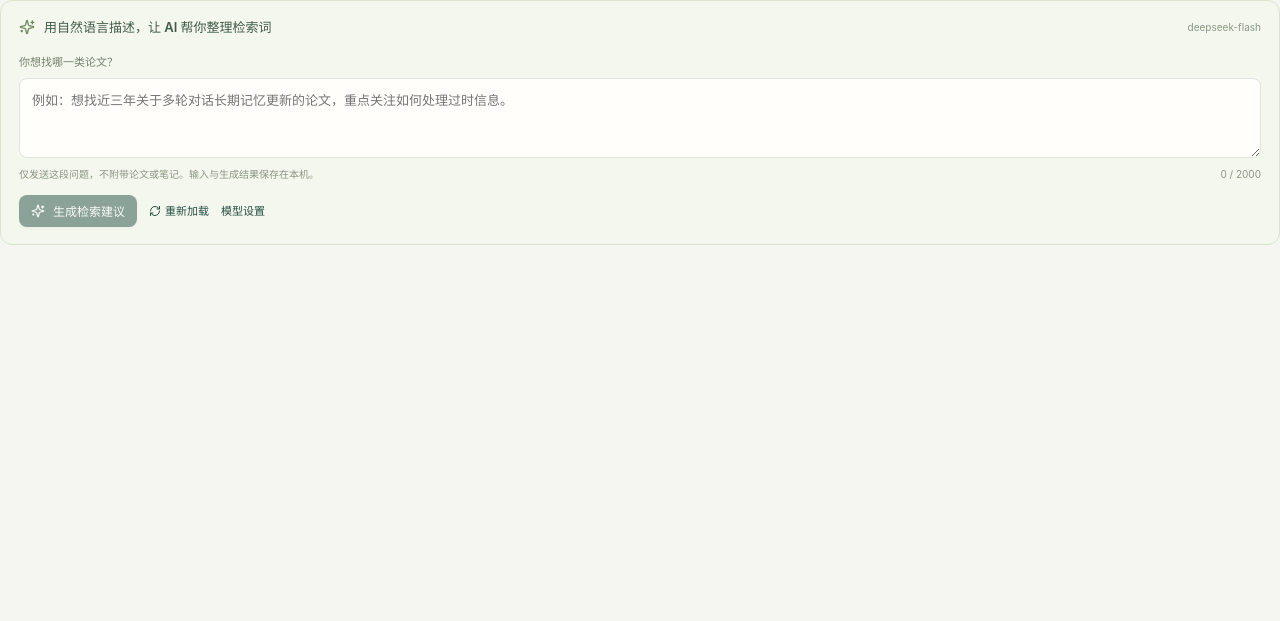
Test: 响应不确定时安全重试同一提交，不把后来编辑的问题重复发送
The width and height of the screenshot is (1280, 621).
Expected: the text "deepseek-flash" is shown, [1188,19,1261,35]
Type "原研究问题" into the text box named "ACL Anthology 研究问题" at (640, 118), box [19,78,1261,158]
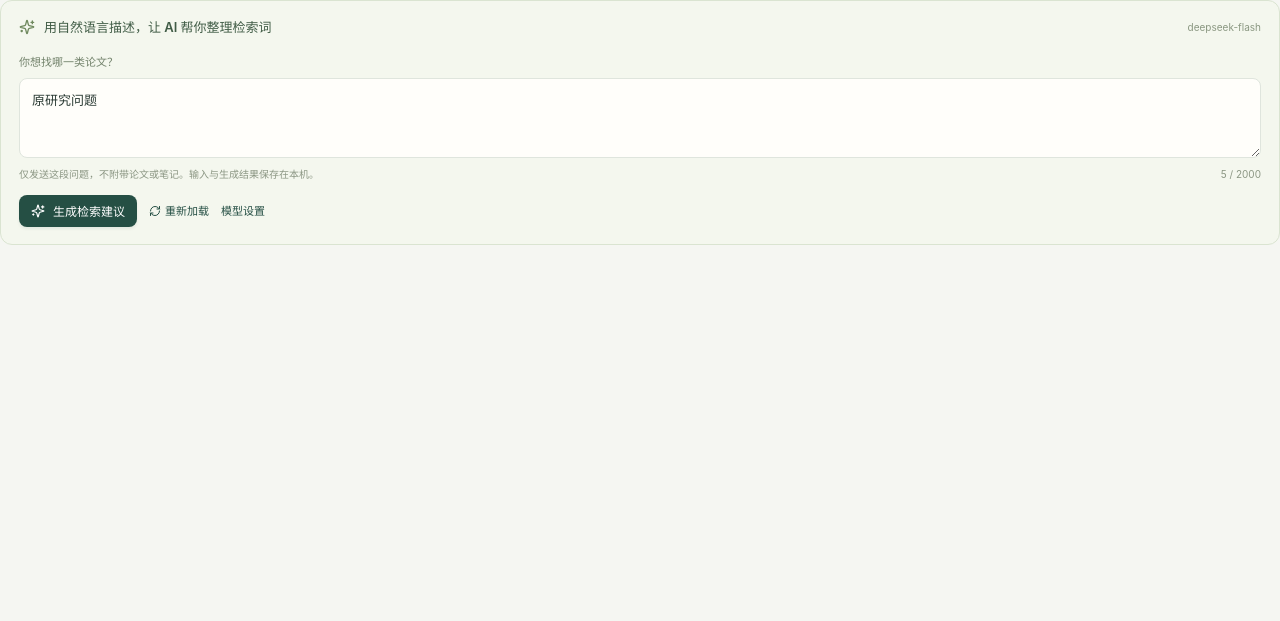
Click the button "生成检索建议" at (78, 211), box [19,195,137,227]
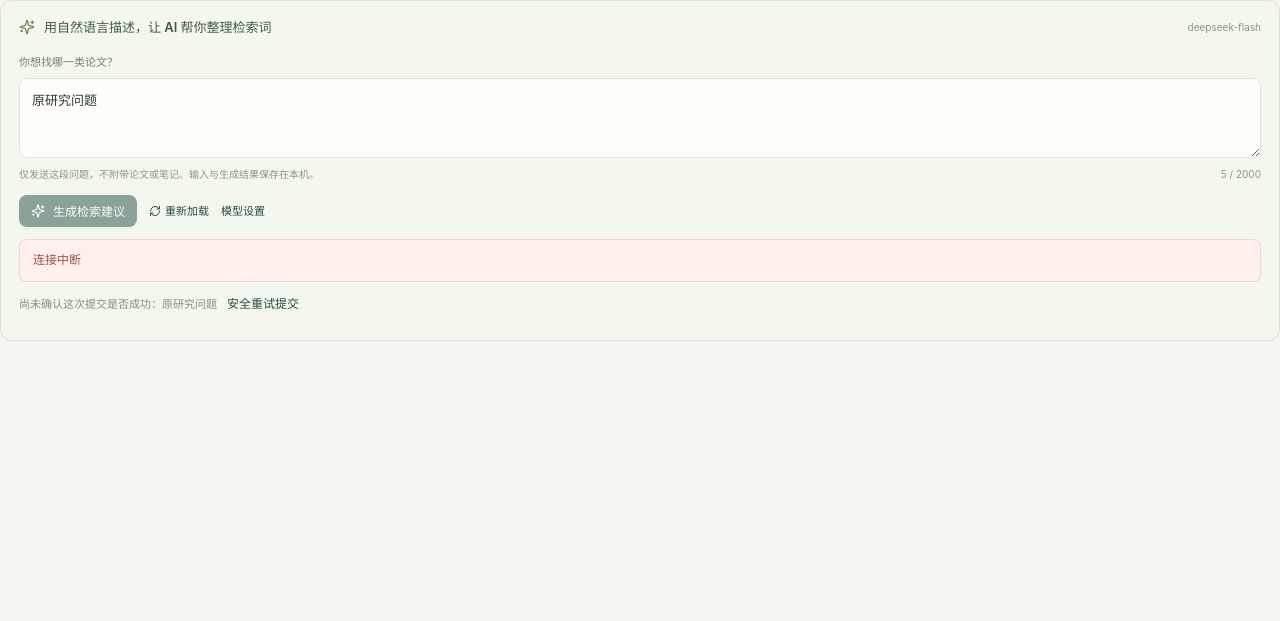
Expected: the message "连接中断" is shown, [19,239,1261,282]
Replace the text in the text box named "ACL Anthology 研究问题" with "尚未发送的新问题" at (640, 118), box [19,78,1261,158]
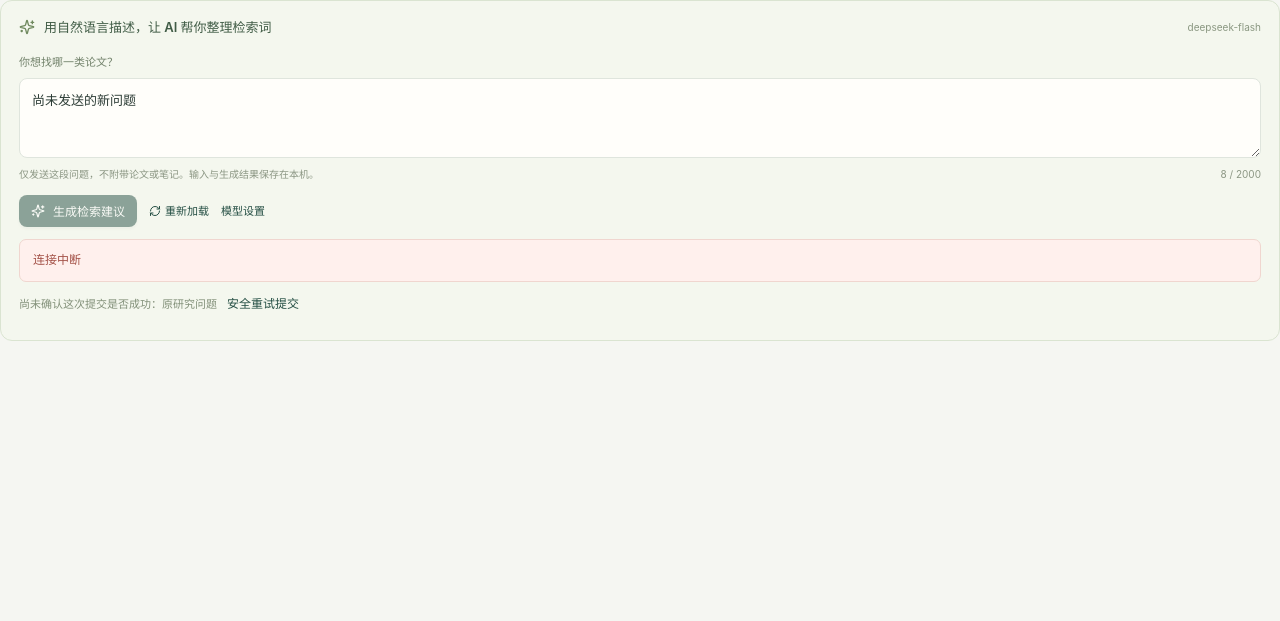
Click the button "安全重试提交" at (263, 304), box [227,294,299,314]
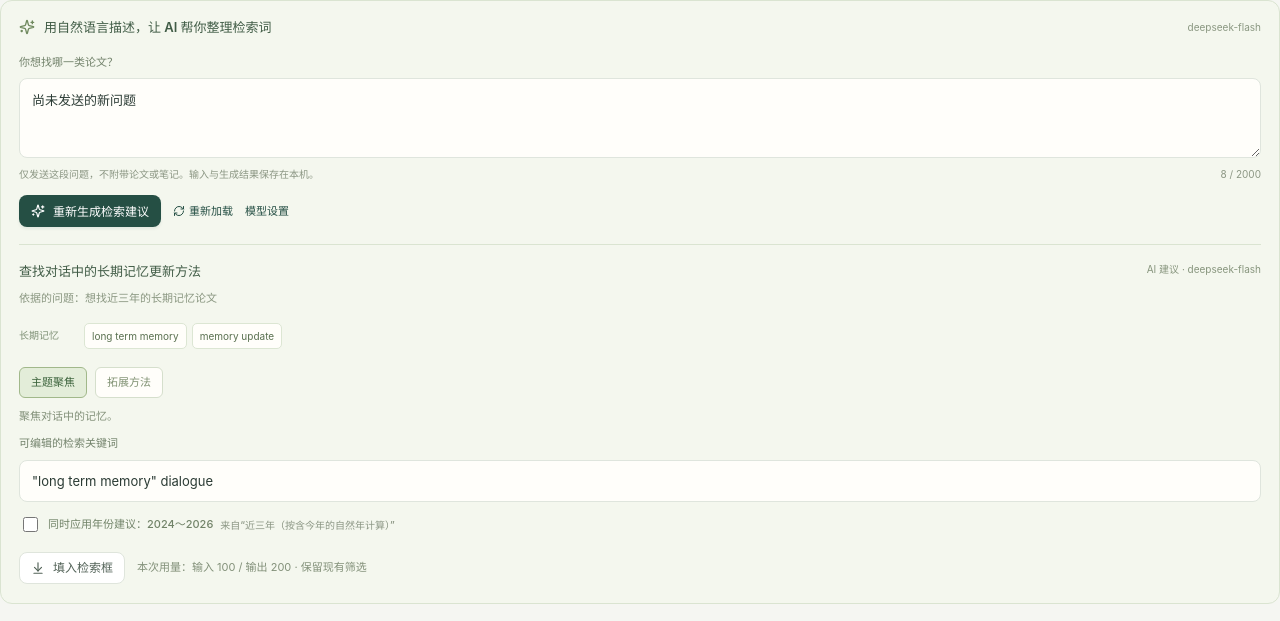
Expected: the element named "AI 检索建议" is shown, [19,244,1261,586]
